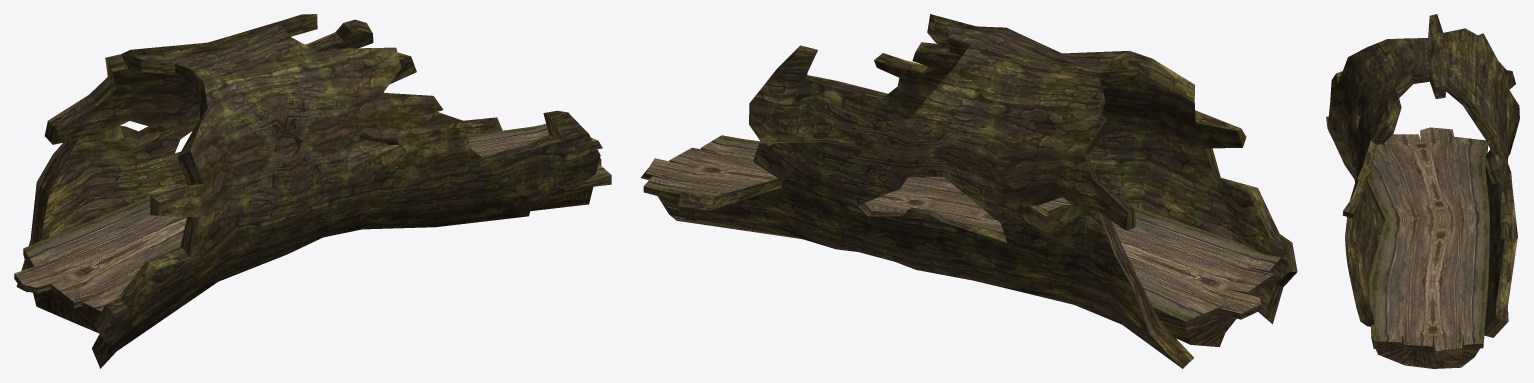
The model's file is 10104_WoodBridge.FBX.
3 views of the same model, side by side, from view 1: azimuth 30°, elevation 25°; view 2: azimuth 150°, elevation 25°; view 3: azimuth 270°, elevation 25° (orthographic). The views are drawn at different scales.
Parts seen in each view (by area): view 1: Plane021; view 2: Plane021; view 3: Plane021.
Part boxes in pixels (box(x1,y1,x2,y2)): Plane021: box(14, 14, 611, 368); Plane021: box(641, 14, 1297, 368); Plane021: box(1326, 14, 1519, 368).
Size of the model in its own units: 1019 by 431 by 369.
